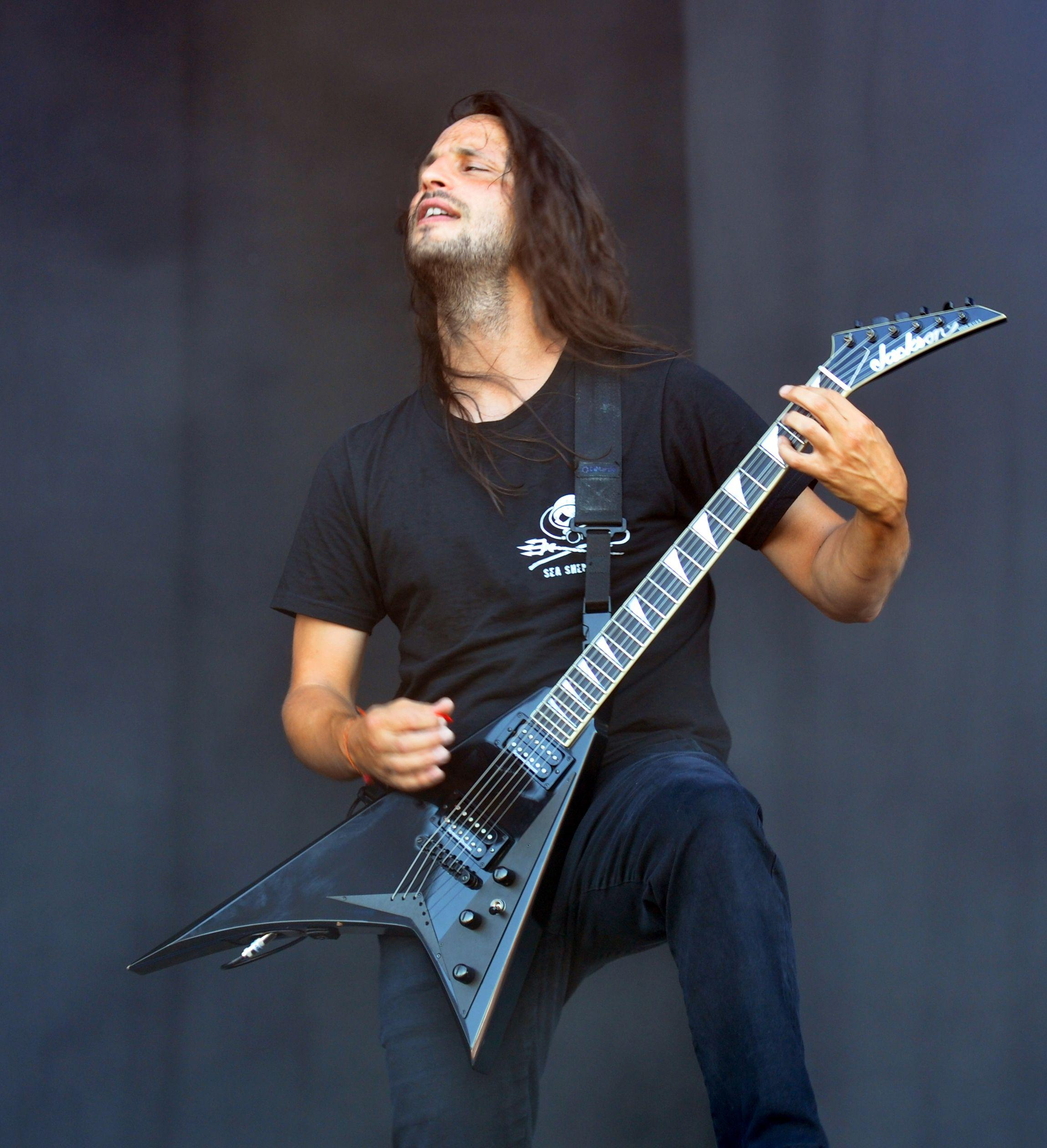acousticguitar: (126, 289, 1006, 1060)
